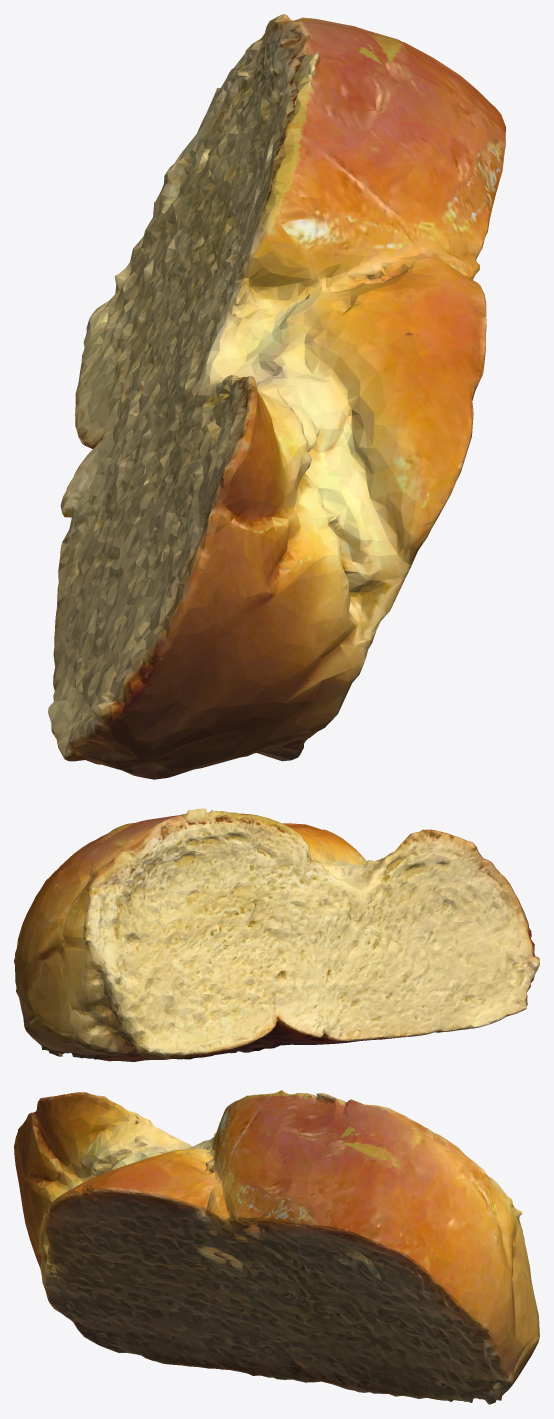
The model's file is Hefezopf.fbx.
3 views of the same model, one above another, from view 1: azimuth 30°, elevation 25°; view 2: azimuth 150°, elevation 25°; view 3: azimuth 270°, elevation 25° (orthographic). The views are drawn at different scales.
Visible parts, largest first — view 1: Hefezopf_tex_high; view 2: Hefezopf_tex_high; view 3: Hefezopf_tex_high.
Part boxes in pixels (x1,y1,x2,y2): Hefezopf_tex_high: (48, 14, 505, 779); Hefezopf_tex_high: (14, 808, 539, 1061); Hefezopf_tex_high: (14, 1090, 539, 1404).
Bounding box in the file's own units: 10.99 × 7.82 × 11.69.
